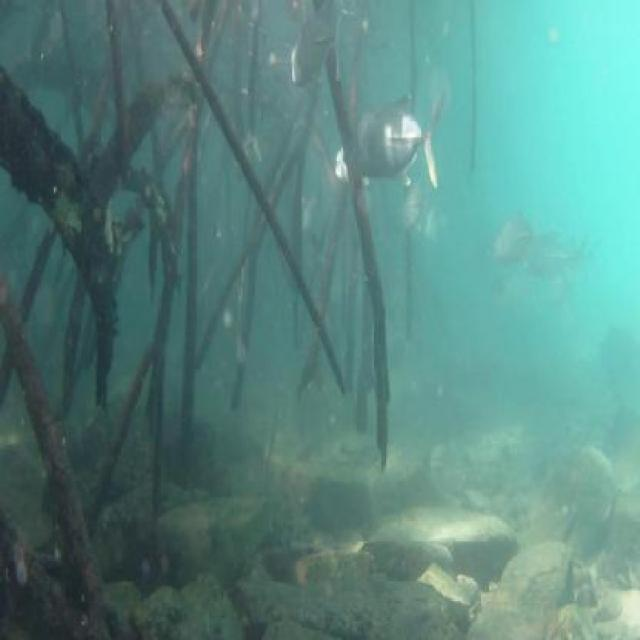Caranx_sexfasciatus_juvenile: (343, 78, 443, 208), (278, 11, 342, 100), (529, 229, 596, 293), (482, 207, 532, 278), (322, 135, 363, 214), (231, 114, 267, 188)
